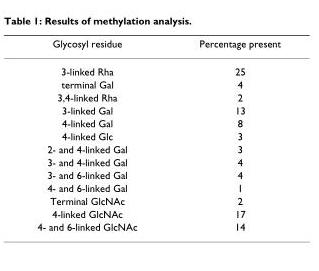table: (36, 36, 279, 232)
table column: (36, 36, 167, 232), (167, 36, 279, 232)
table column header: (36, 36, 279, 56)
table row: (36, 56, 279, 77), (36, 36, 279, 56), (36, 77, 279, 90), (36, 90, 279, 103), (36, 103, 279, 116), (36, 116, 279, 129), (36, 129, 279, 142), (36, 142, 279, 155), (36, 155, 279, 168), (36, 168, 279, 181), (36, 193, 279, 206), (36, 206, 279, 219), (36, 219, 279, 232), (36, 181, 279, 193)
